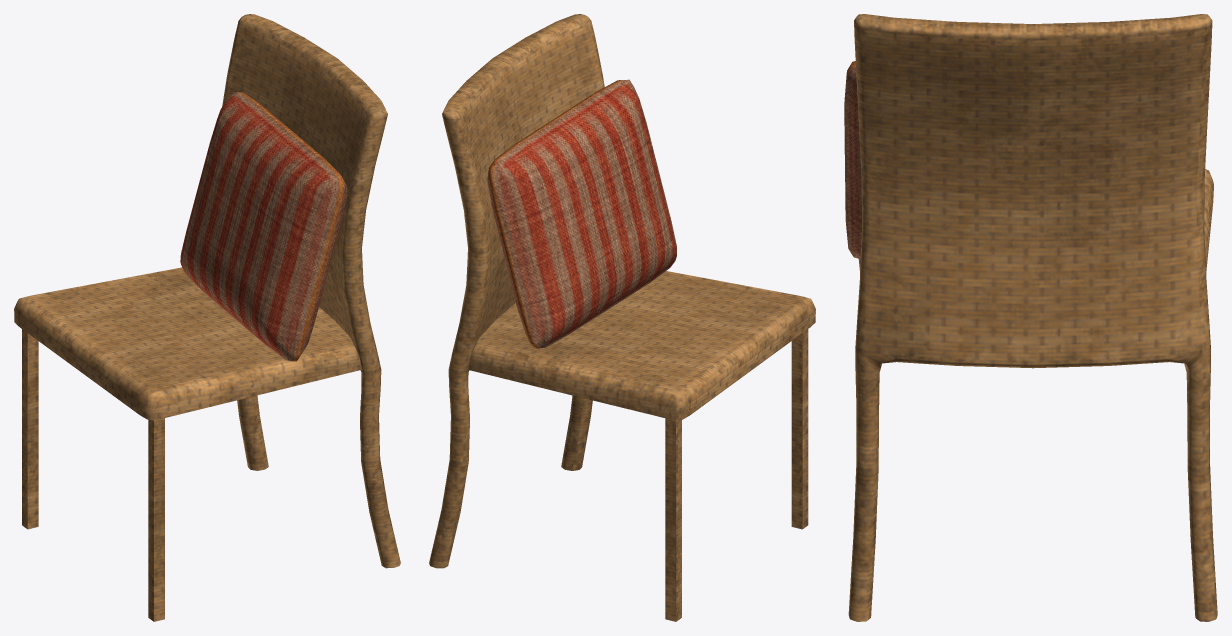
File: MB_Cafe_Chair_06.fbx
The picture shows the model from 3 angles, left to right: view 1: azimuth 30°, elevation 25°; view 2: azimuth 150°, elevation 25°; view 3: azimuth 270°, elevation 25°; orthographic projection. The views are drawn at different scales.
Visible parts, largest first — view 1: MB_Cafe_Chair_06_LOD0; view 2: MB_Cafe_Chair_06_LOD0; view 3: MB_Cafe_Chair_06_LOD0.
Boxes of the visible parts, x1=… form: MB_Cafe_Chair_06_LOD0: x1=14, y1=14, x2=400, y2=621; MB_Cafe_Chair_06_LOD0: x1=429, y1=14, x2=815, y2=621; MB_Cafe_Chair_06_LOD0: x1=844, y1=14, x2=1217, y2=621.
Size of what is drawn, in the model's own units: 57.71 by 96.58 by 55.13.
